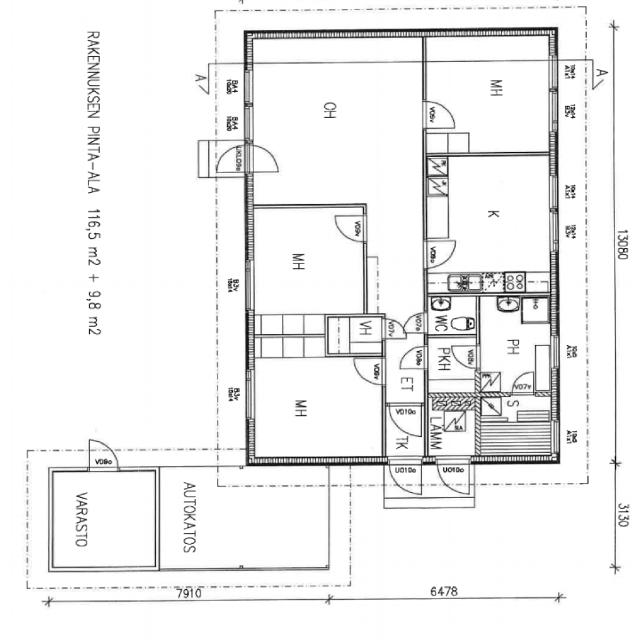door: (248, 206, 366, 318), (428, 204, 508, 278), (385, 393, 425, 441), (433, 454, 472, 499), (385, 454, 422, 498), (204, 141, 250, 176), (418, 96, 462, 132), (348, 354, 389, 388), (331, 208, 368, 245), (420, 236, 460, 270), (245, 142, 284, 176), (84, 437, 120, 471), (448, 342, 480, 372), (396, 344, 428, 372), (379, 316, 410, 340), (399, 312, 429, 333)
window: (543, 170, 564, 264), (542, 60, 562, 140), (238, 62, 258, 141), (239, 246, 258, 313), (239, 363, 257, 424), (548, 331, 564, 373), (550, 416, 564, 456)
zone: (245, 46, 426, 204), (423, 152, 556, 296), (423, 36, 556, 158), (246, 350, 382, 468), (245, 204, 365, 320), (54, 468, 159, 571), (476, 293, 557, 396), (474, 393, 557, 465), (425, 338, 480, 390), (324, 315, 384, 356), (425, 294, 479, 336), (384, 387, 424, 442), (434, 454, 473, 499)
